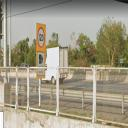speed_limit_120: (37, 26, 45, 49)
